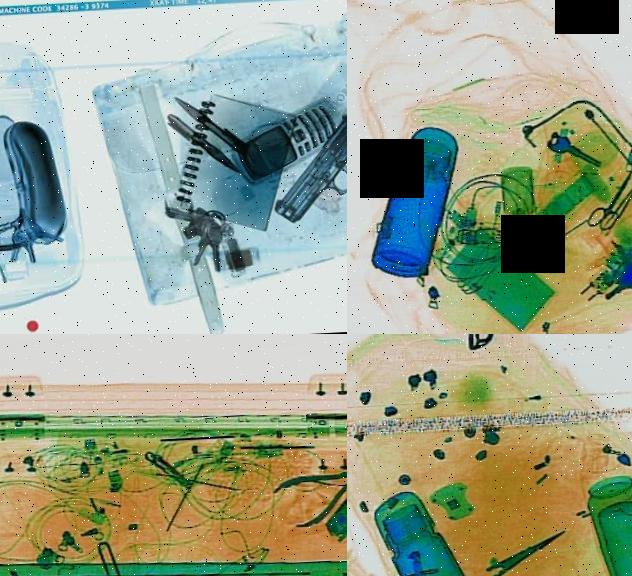Gun: (267, 105, 347, 225)
Knife: (481, 522, 570, 576)
Pliers: (266, 441, 347, 531)
Scissors: (579, 161, 632, 242)
